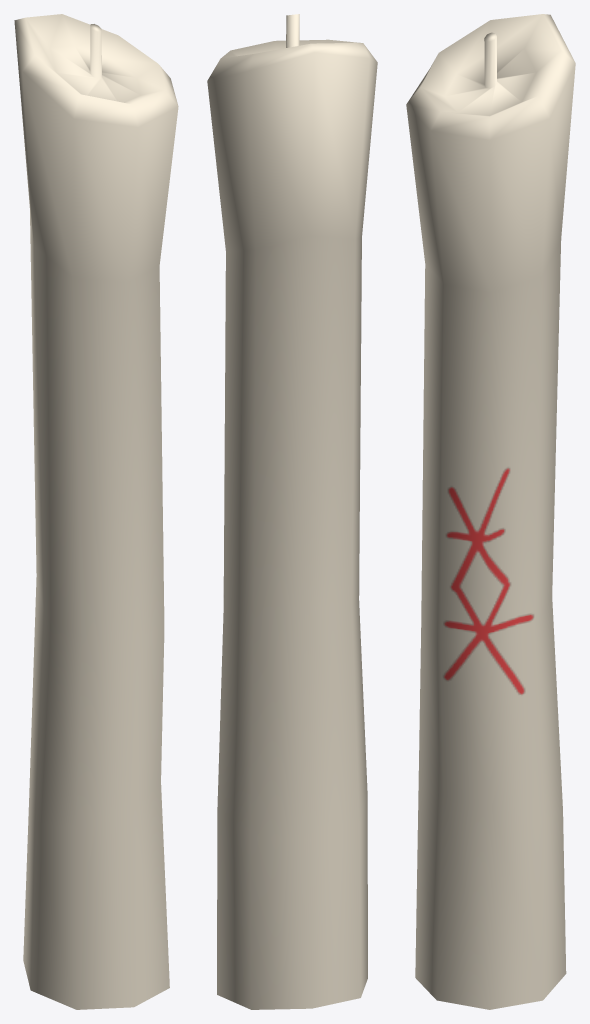
The model's file is Candle1.fbx.
3 views of the same model, side by side, from view 1: azimuth 30°, elevation 25°; view 2: azimuth 150°, elevation 25°; view 3: azimuth 270°, elevation 25° (orthographic). The views are drawn at different scales.
Parts seen in each view (by area): view 1: Cylinder.007.LOW; view 2: Cylinder.007.LOW; view 3: Cylinder.007.LOW.
Part boxes in pixels (<box>): Cylinder.007.LOW: <box>14,14,178,1009</box>; Cylinder.007.LOW: <box>207,14,377,1009</box>; Cylinder.007.LOW: <box>406,14,575,1009</box>.
Bounding box in the file's own units: 3.84 × 23.54 × 3.83.
